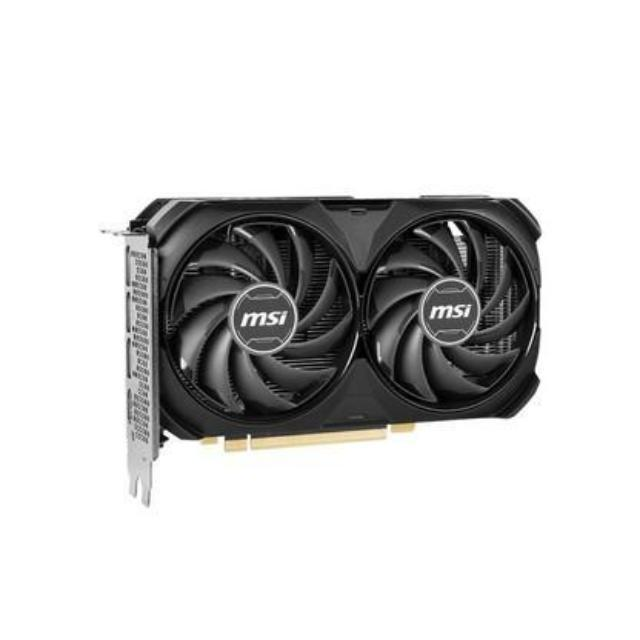GPU: (114, 178, 548, 464)
